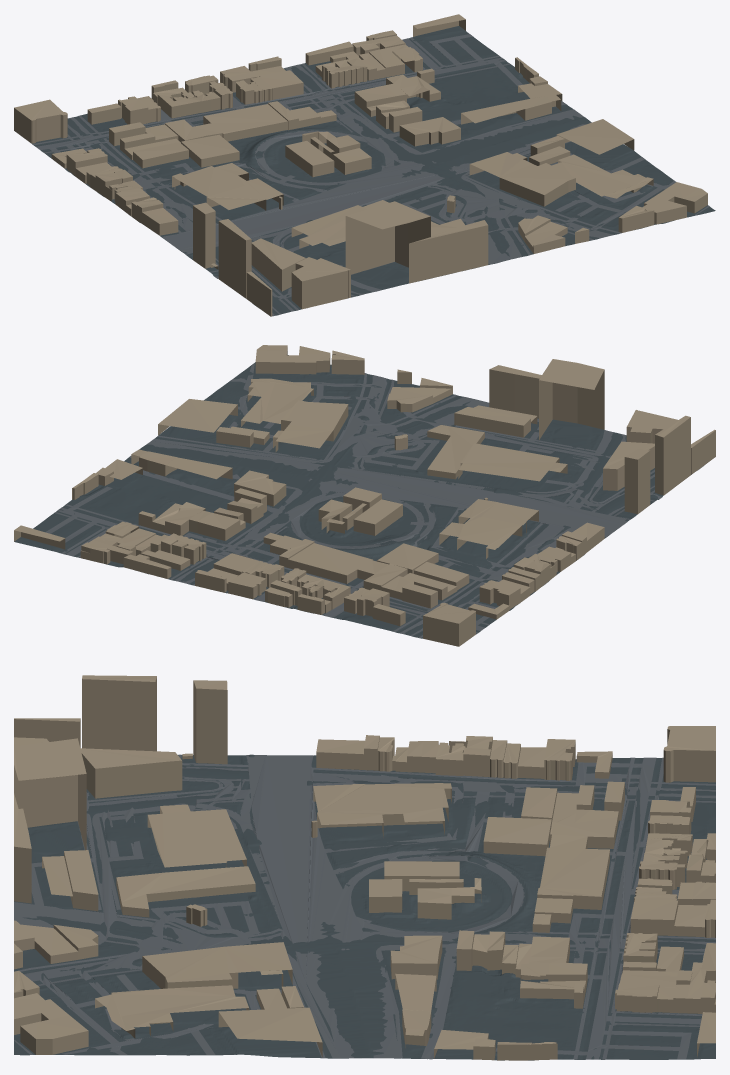
File: epsg26910-1435-10886.lod0.glb
The picture shows the model from 3 angles, top to bottom: view 1: azimuth 30°, elevation 25°; view 2: azimuth 150°, elevation 25°; view 3: azimuth 270°, elevation 25°; orthographic projection. The views are drawn at different scales.
Parts seen in each view (by area): view 1: epsg26910-1435-10886-lod0; view 2: epsg26910-1435-10886-lod0; view 3: epsg26910-1435-10886-lod0.
Boxes of the visible parts, x1,y1,x2,y2 form: epsg26910-1435-10886-lod0: (14,14,715,316); epsg26910-1435-10886-lod0: (14,345,715,646); epsg26910-1435-10886-lod0: (14,675,715,1060).
Bounding box in the file's own units: 384 × 55.83 × 384.
